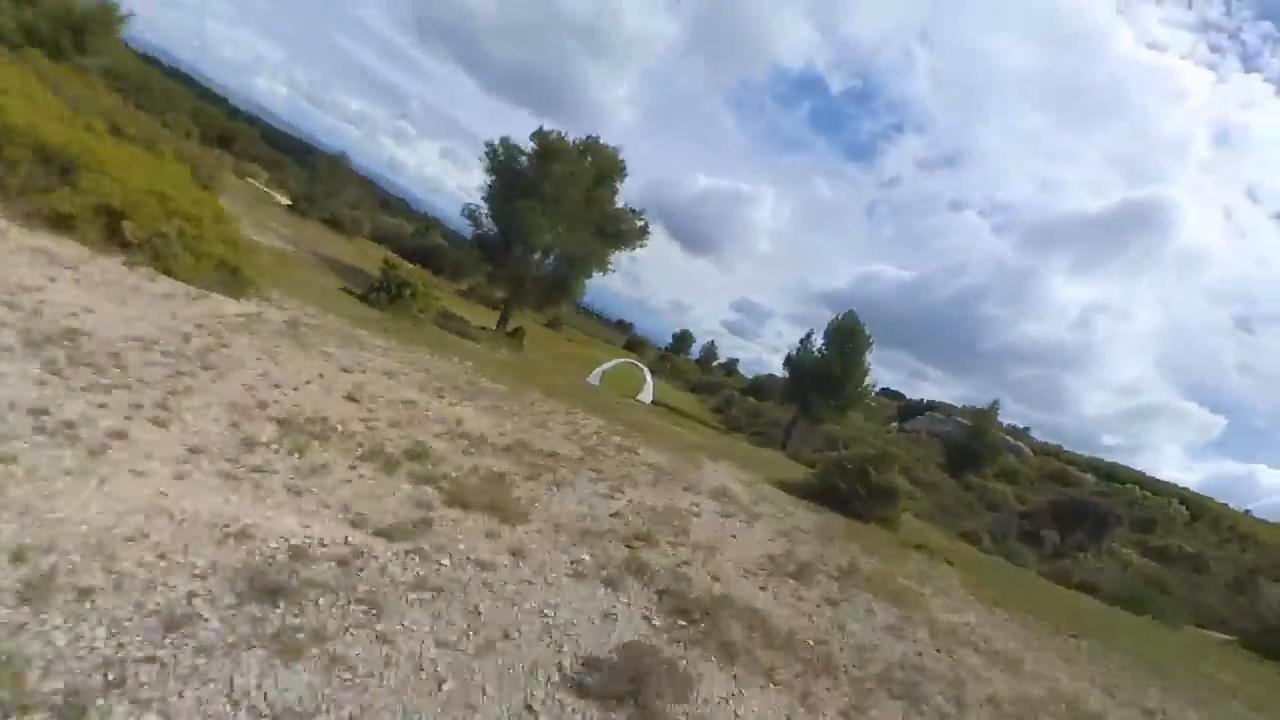gate: (585, 356, 653, 410)
